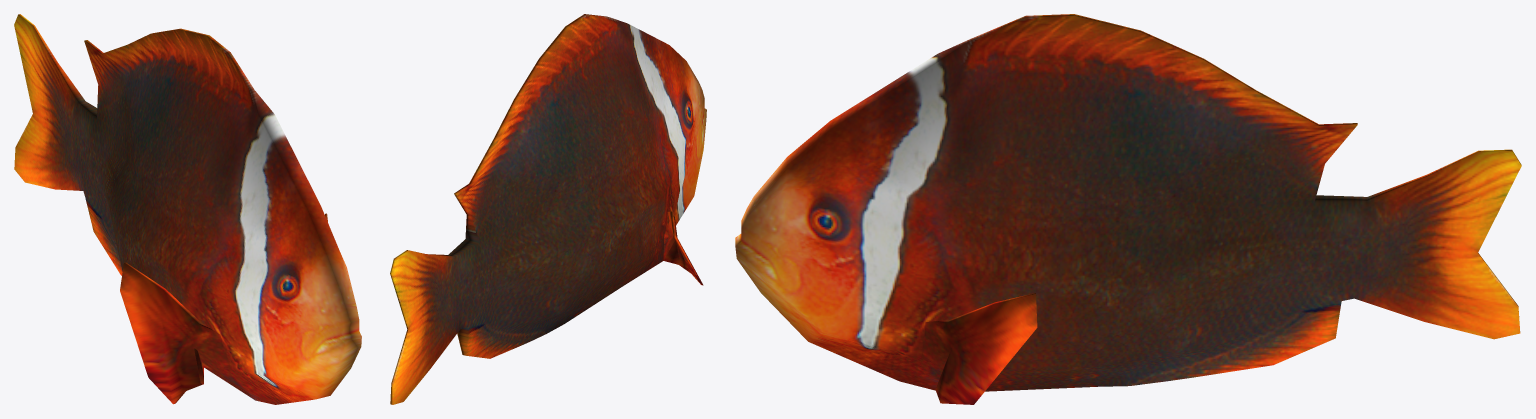
Rendered from fish13.glb.
The picture shows the model from 3 angles, left to right: view 1: azimuth 30°, elevation 25°; view 2: azimuth 150°, elevation 25°; view 3: azimuth 270°, elevation 25°; orthographic projection. The views are drawn at different scales.
Visible parts, largest first — view 1: Asset3DLoader.sceneRoot; view 2: Asset3DLoader.sceneRoot; view 3: Asset3DLoader.sceneRoot.
Part boxes in pixels (left/top/right/bottom): Asset3DLoader.sceneRoot: left=14, top=14, right=361, bottom=404; Asset3DLoader.sceneRoot: left=390, top=14, right=706, bottom=404; Asset3DLoader.sceneRoot: left=735, top=14, right=1521, bottom=404.
Bounding box in the file's own units: 162 × 238 × 453.
1 material, 1 textured.
